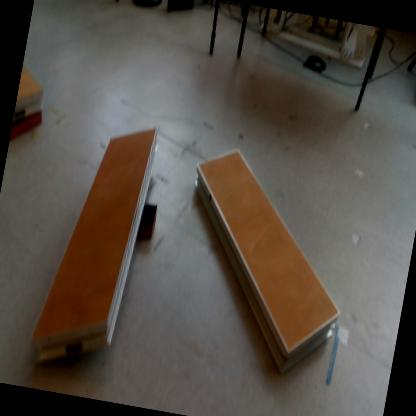Stairs: (192, 149, 342, 379), (31, 126, 158, 369), (13, 63, 44, 122)
